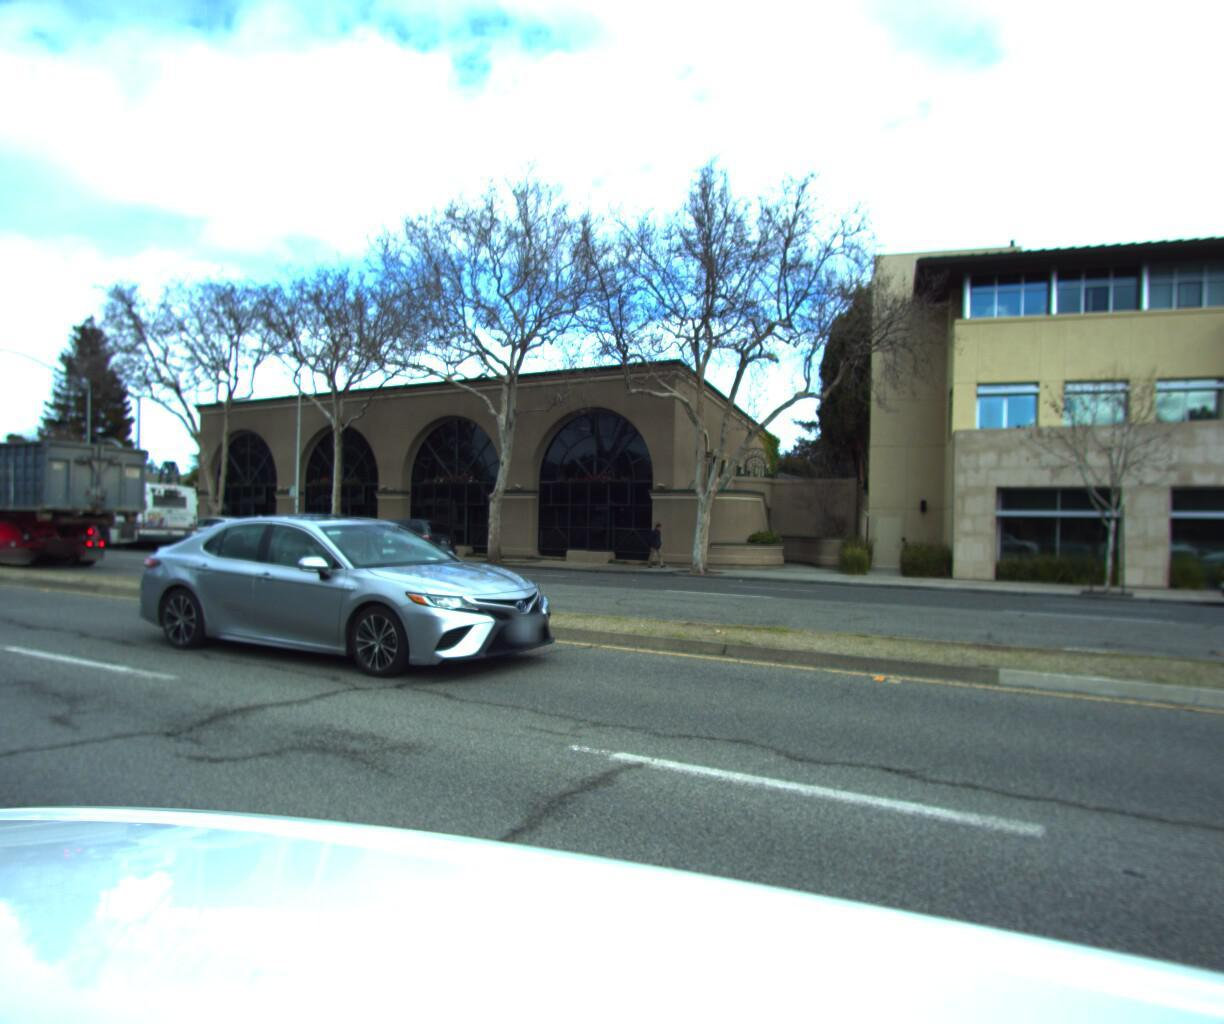bus: (0, 468, 213, 550)
car: (130, 508, 586, 691), (343, 513, 462, 562), (170, 509, 262, 550), (1210, 528, 1224, 622)
truck: (0, 435, 152, 579)
